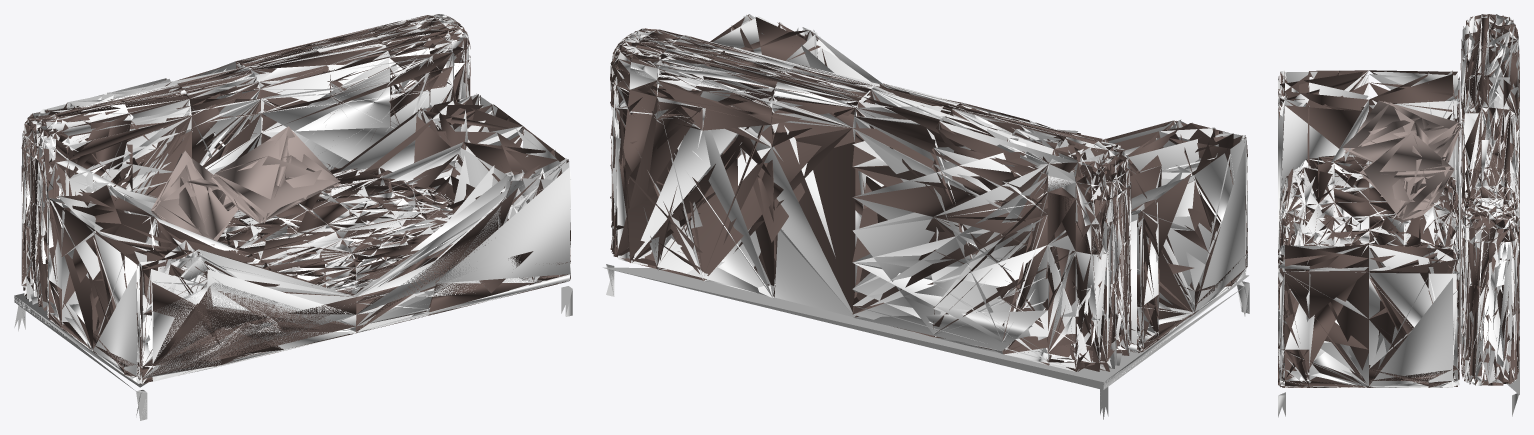
The model's file is 2-model-fukd.dae.
3 renders of one model, left to right at view 1: azimuth 30°, elevation 25°; view 2: azimuth 150°, elevation 25°; view 3: azimuth 270°, elevation 25°, orthographic. The views are drawn at different scales.
Parts seen in each view (by area): view 1: Component_1 (×2), Component_1_1_2 (×2), Component_4_1_2, Component_4, Component_3_1_2 (×2), Component_3 (×2), pillow1_2, pillow1_1, Group1; view 2: Component_4_1_2, Component_4, Component_1, Component_1_1_2 (×2), Group1; view 3: Component_1 (×2), Component_1_1_2 (×2), Component_4, Component_3_1_2 (×2), Component_4_1_2, pillow1_2, Component_3 (×2), pillow1_1, Group1.
Part boxes in pixels (x1=…): Component_1 (×2): x1=93, y1=93, x2=524, y2=384; Component_1_1_2 (×2): x1=47, y1=126, x2=570, y2=351; Component_4_1_2: x1=21, y1=61, x2=261, y2=310; Component_4: x1=235, y1=14, x2=470, y2=173; Component_3_1_2 (×2): x1=217, y1=167, x2=435, y2=291; Component_3 (×2): x1=222, y1=189, x2=453, y2=288; pillow1_2: x1=211, y1=126, x2=340, y2=223; pillow1_1: x1=151, y1=150, x2=238, y2=245; Group1: x1=14, y1=293, x2=147, y2=391; Component_4_1_2: x1=852, y1=83, x2=1131, y2=371; Component_4: x1=610, y1=28, x2=879, y2=317; Component_1: x1=1102, y1=119, x2=1247, y2=314; Component_1_1_2 (×2): x1=710, y1=14, x2=1194, y2=353; Group1: x1=603, y1=267, x2=1248, y2=389; Component_1 (×2): x1=1278, y1=70, x2=1459, y2=387; Component_1_1_2 (×2): x1=1278, y1=70, x2=1459, y2=387; Component_4: x1=1460, y1=107, x2=1519, y2=385; Component_3_1_2 (×2): x1=1279, y1=154, x2=1458, y2=249; Component_4_1_2: x1=1460, y1=14, x2=1519, y2=274; pillow1_2: x1=1359, y1=132, x2=1454, y2=222; Component_3 (×2): x1=1279, y1=161, x2=1458, y2=247; pillow1_1: x1=1342, y1=100, x2=1460, y2=163; Group1: x1=1459, y1=186, x2=1519, y2=394.
Size of the model in its own units: 226 by 114 by 111.
